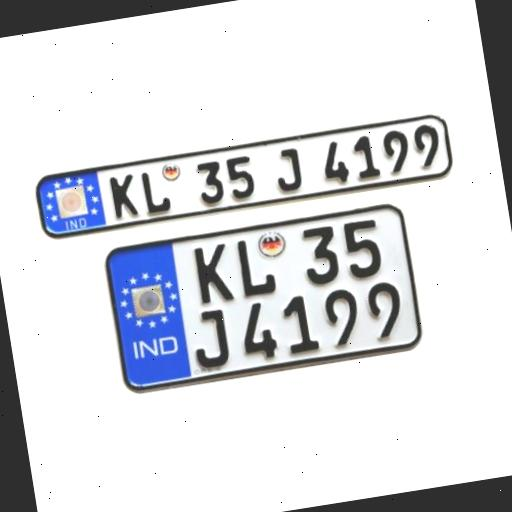number plate: (100, 201, 422, 396), (30, 110, 455, 244)
